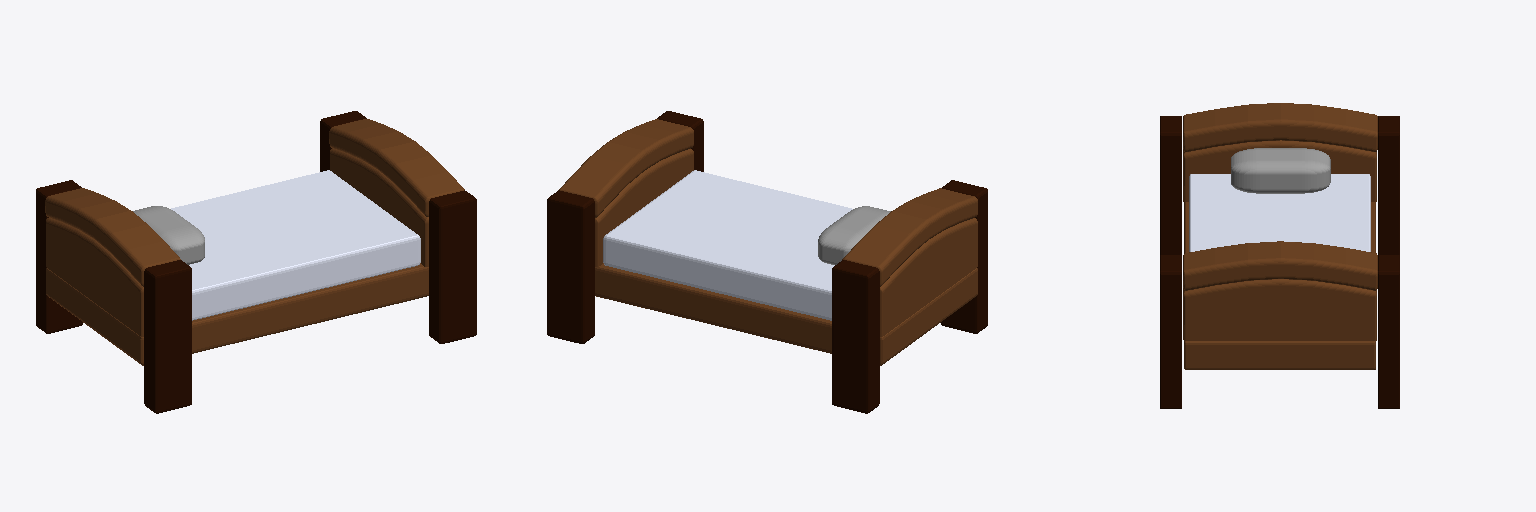
The model's file is bed.obj.
3 renders of one model, left to right at view 1: azimuth 30°, elevation 25°; view 2: azimuth 150°, elevation 25°; view 3: azimuth 270°, elevation 25°, orthographic.
Visible parts, largest first — view 1: Plane.003_Plane.007, Plane.001, Plane.002, Plane.006, Cube_Cube.001; view 2: Plane.003_Plane.007, Plane.001, Plane.002, Plane.006, Cube_Cube.001; view 3: Plane.001, Plane.002, Plane.003_Plane.007, Plane.006, Cube_Cube.001.
Boxes of the visible parts, x1=… form: Plane.003_Plane.007: x1=171, y1=170, x2=420, y2=320; Plane.001: x1=45, y1=119, x2=464, y2=336; Plane.002: x1=36, y1=111, x2=476, y2=413; Plane.006: x1=46, y1=263, x2=428, y2=365; Cube_Cube.001: x1=133, y1=206, x2=204, y2=264; Plane.003_Plane.007: x1=603, y1=170, x2=852, y2=320; Plane.001: x1=558, y1=119, x2=977, y2=336; Plane.002: x1=547, y1=111, x2=987, y2=413; Plane.006: x1=595, y1=263, x2=977, y2=365; Cube_Cube.001: x1=818, y1=206, x2=890, y2=264; Plane.001: x1=1183, y1=103, x2=1377, y2=340; Plane.002: x1=1160, y1=116, x2=1399, y2=408; Plane.003_Plane.007: x1=1189, y1=174, x2=1370, y2=251; Plane.006: x1=1184, y1=202, x2=1375, y2=369; Cube_Cube.001: x1=1231, y1=148, x2=1330, y2=193.
Size of the model in its own units: 4.85 by 2.15 by 3.1.